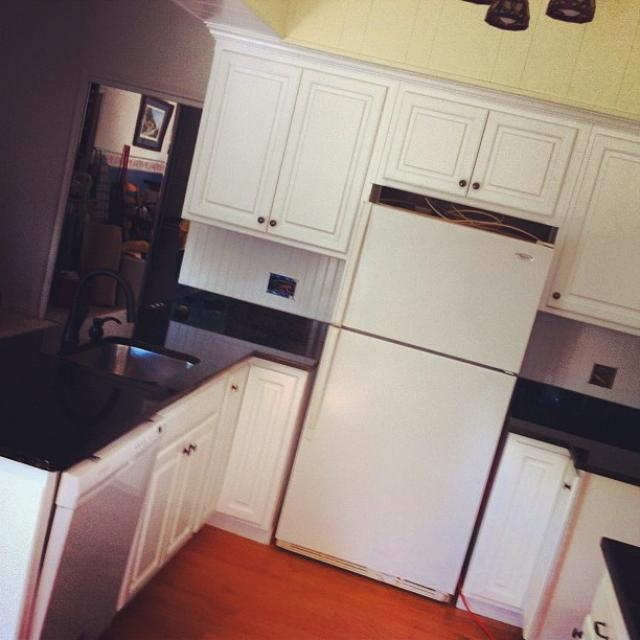Refrigerator: (272, 198, 561, 600)
